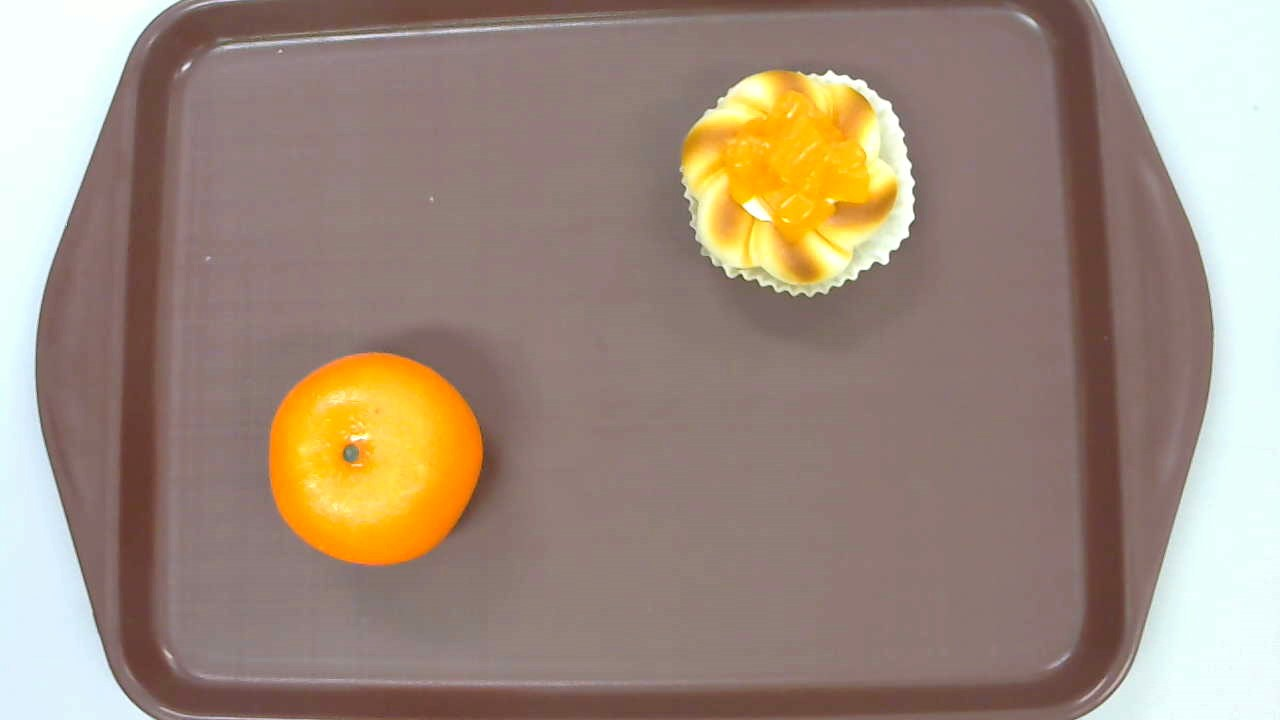mango tart: (678, 66, 916, 298)
orange: (267, 350, 485, 566)
